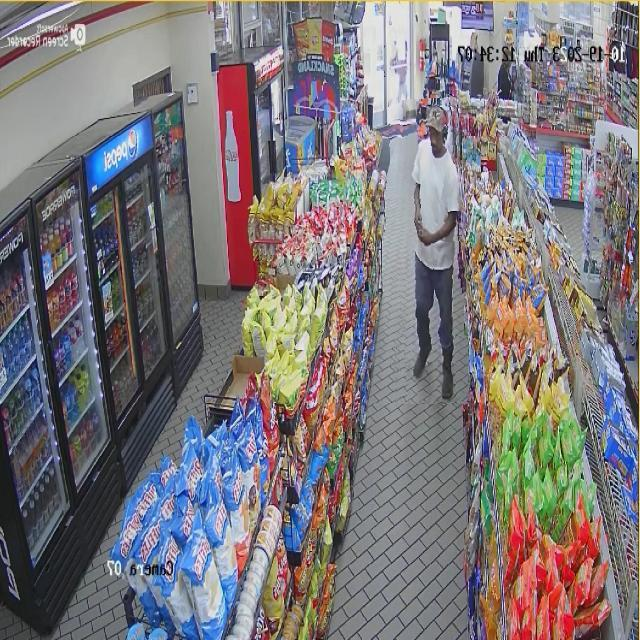Normal: (391, 98, 468, 404)
